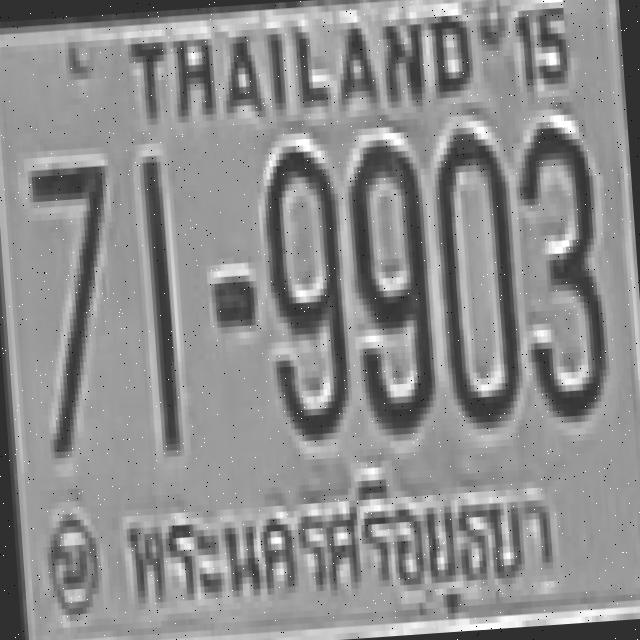0: (428, 119, 522, 424)
1: (138, 146, 180, 448)
3: (512, 116, 606, 415)
7: (27, 159, 120, 452)
9: (256, 137, 351, 436), (340, 128, 434, 427)
Ayutthaya: (115, 452, 570, 638)
